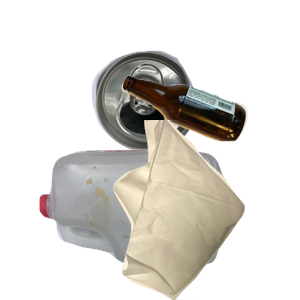glass: (119, 73, 300, 207)
metal: (89, 48, 276, 192)
plastic: (37, 147, 254, 300)
trash: (111, 120, 300, 300)
